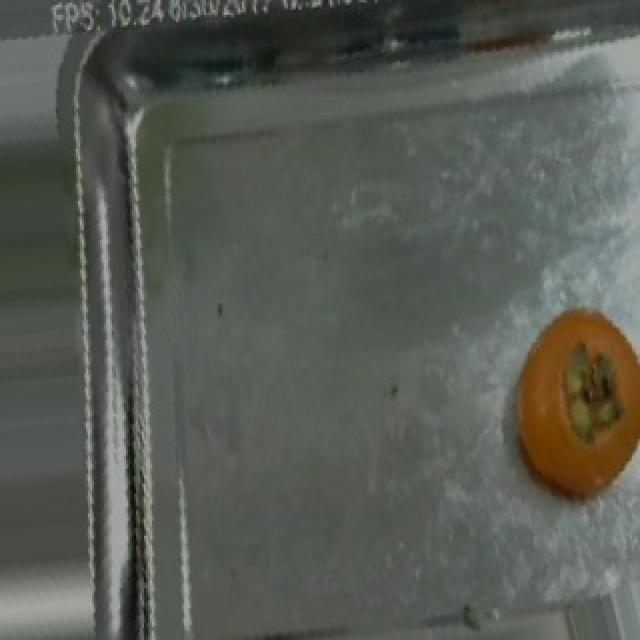Fruit: (498, 293, 640, 518), (430, 588, 616, 637)
